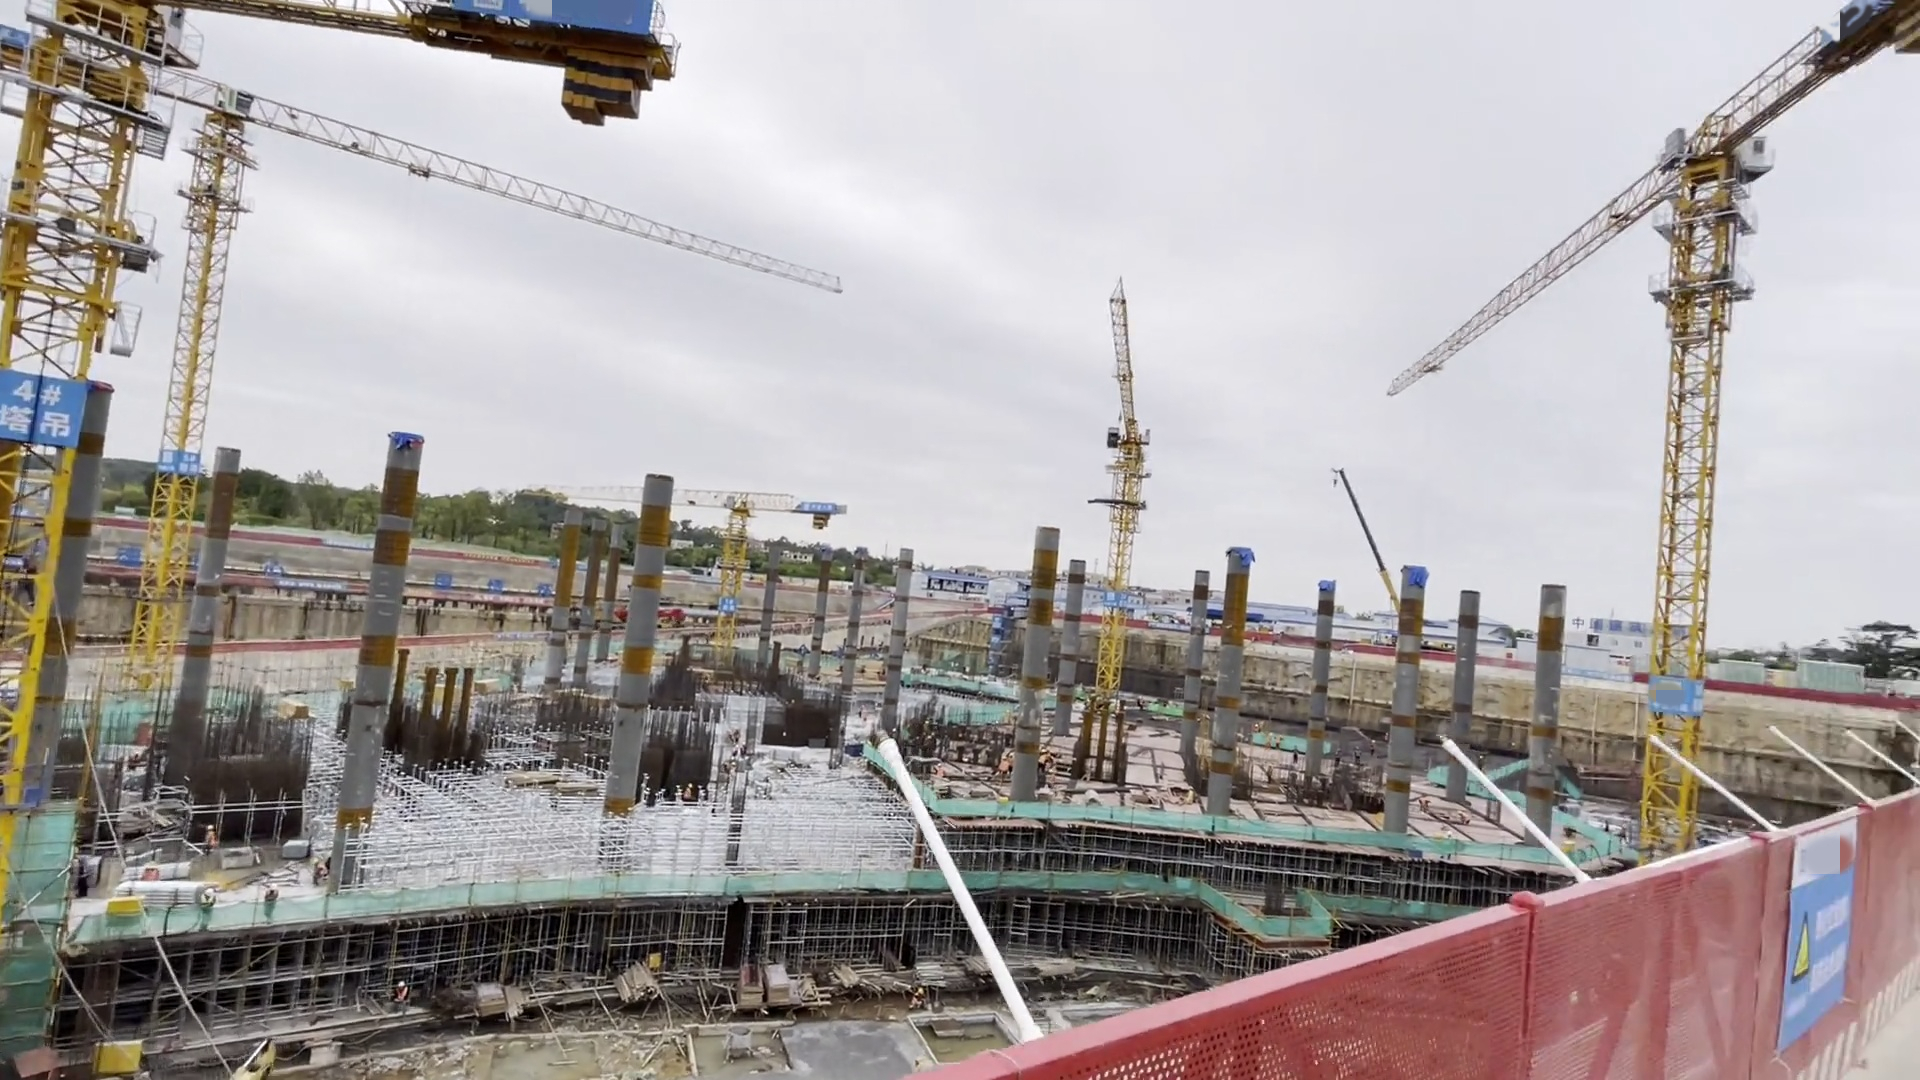fence: (1058, 800, 1905, 1080)
slogan: (1789, 897, 1865, 1023)
wood: (617, 961, 667, 1005), (841, 969, 911, 996), (910, 963, 959, 986)
